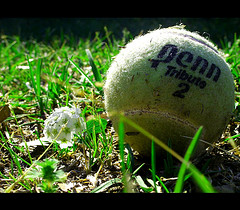tennis ball: (103, 23, 235, 158)
